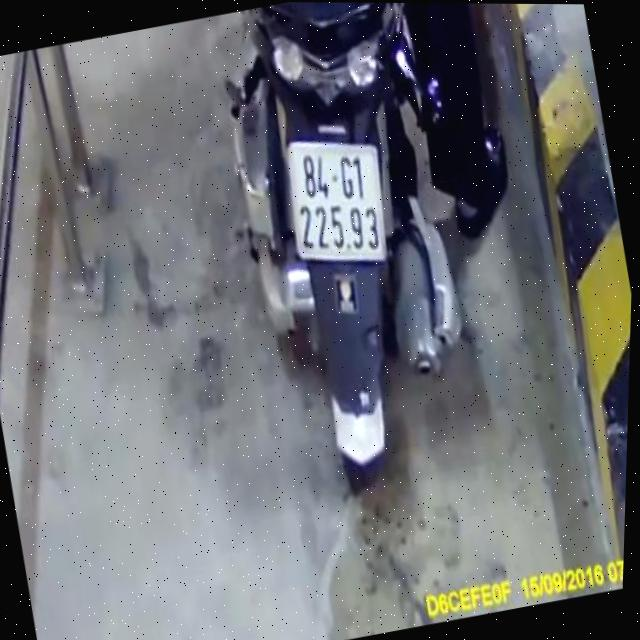motorcycle: (180, 1, 524, 516)
plate: (269, 118, 406, 284)
